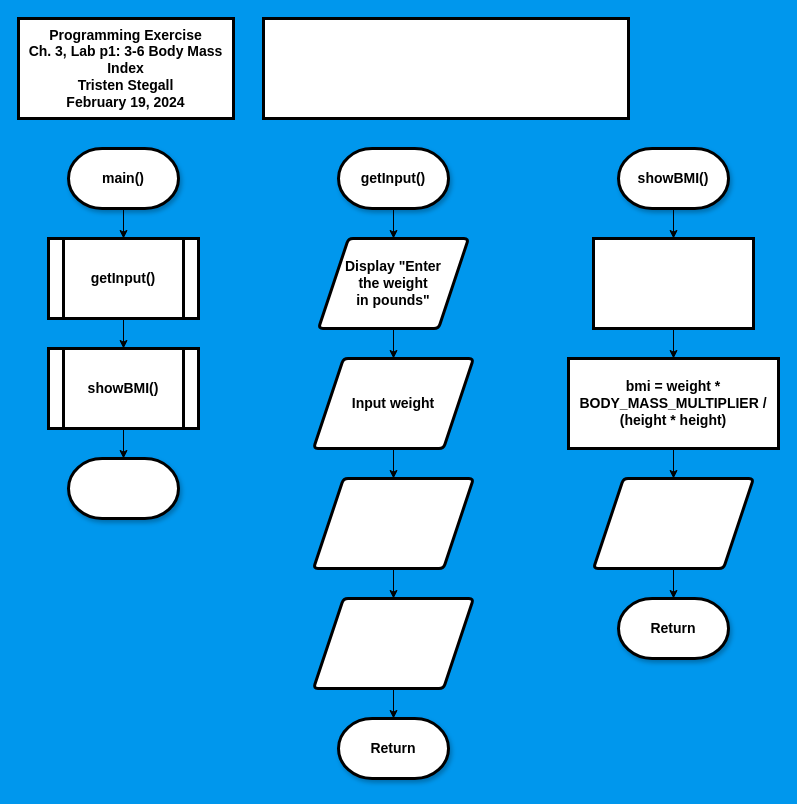
Some shapes in this 797 by 804 pixel diagram are drawn without their labels. The centre of each missing label's shape, as x and y in pixels:
Declare Real bmi: the point at 673,283
Display "BMI: ", bmi: the point at 673,523
Display "Enter height in inches": the point at 393,523
End: the point at 124,489
Global Constant Real BODY_MASS_MULTIPLIER Global Real weight Global Real height: the point at 446,68
Input height: the point at 393,643
